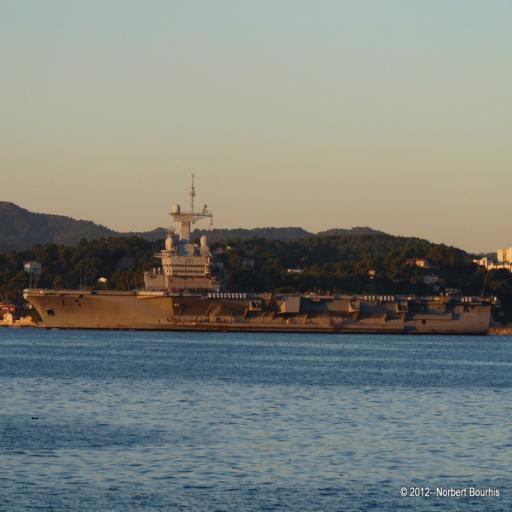Portanaves: (20, 167, 497, 336)
